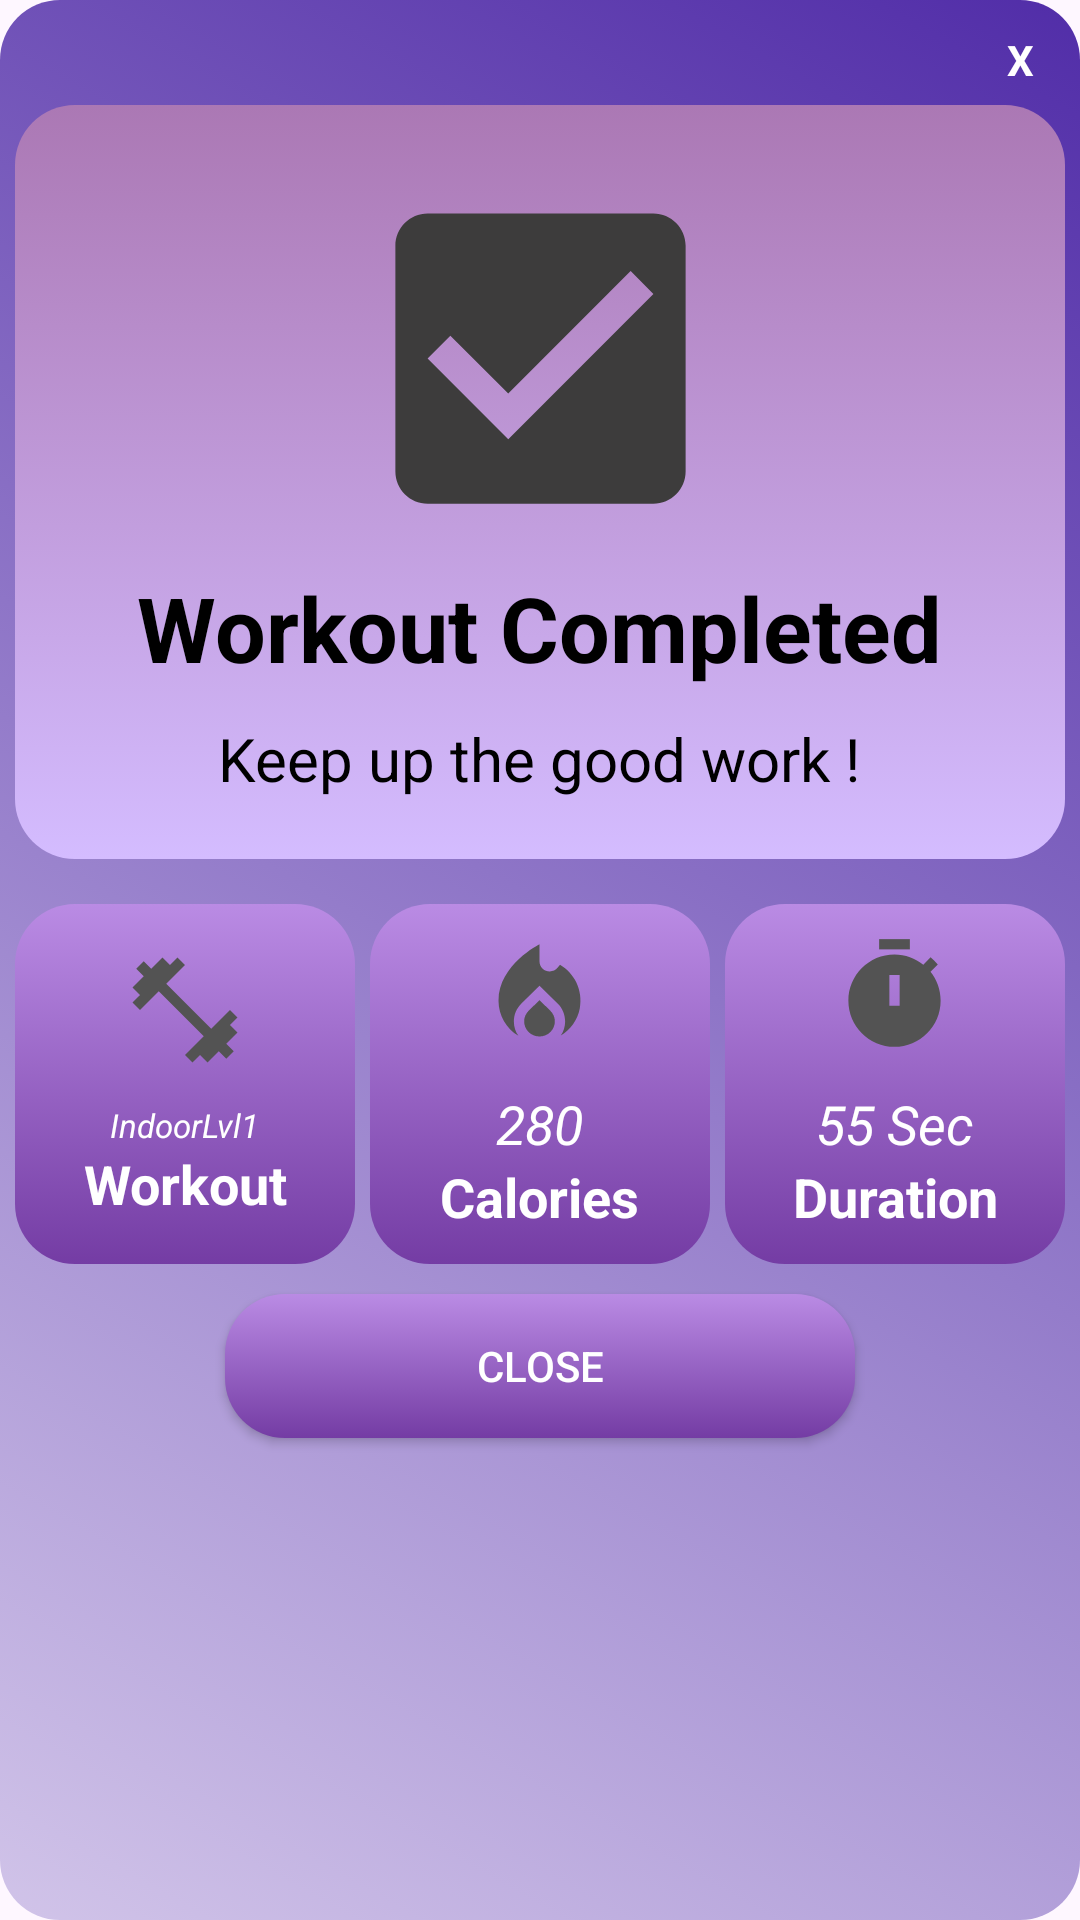

Locate icon controls on the screen. Image size 1080px x 1920px, boxes as (x1=x1, y1=y1, x2=x2, y2=y2).
homepage dumbell: (x1=122, y1=957, x2=248, y2=1073)
homepage timer: (x1=848, y1=954, x2=941, y2=1047)
